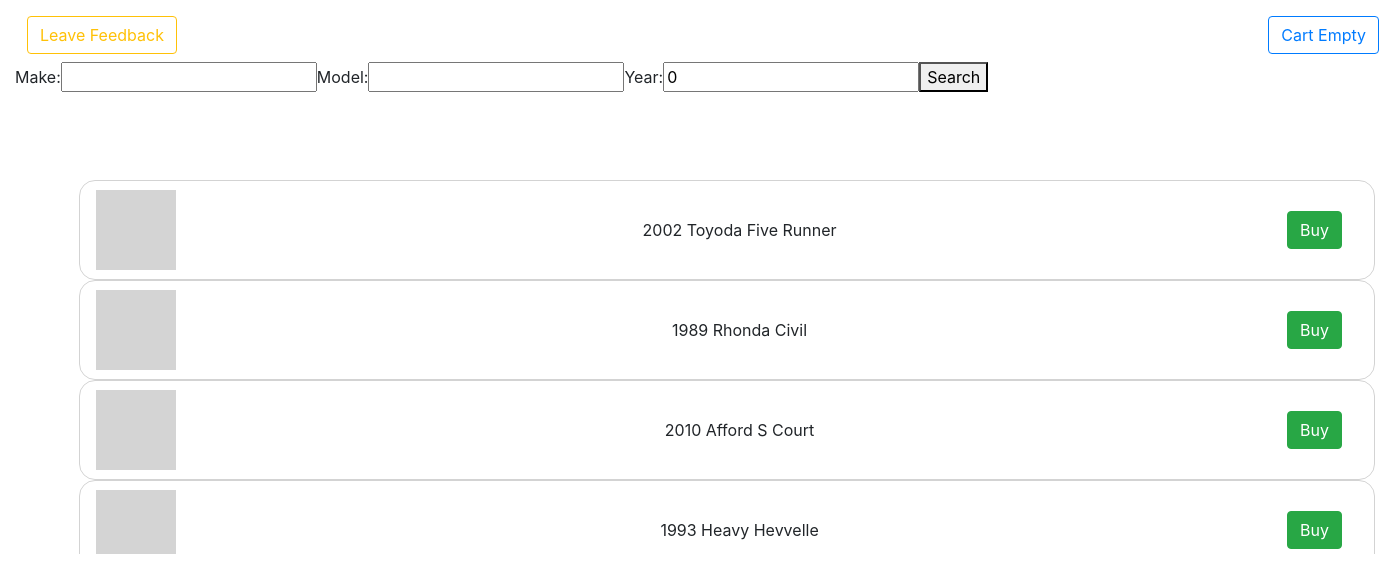
App Content › should add an item to the cart when buying item from the list
This screenshot has width=1396, height=571.
What coordinates should you click on to do the following:
click the button titled "Buy" in the row of "Five Runner"
I would click on:
 (1315, 230)
Its box is [1287, 211, 1342, 249].
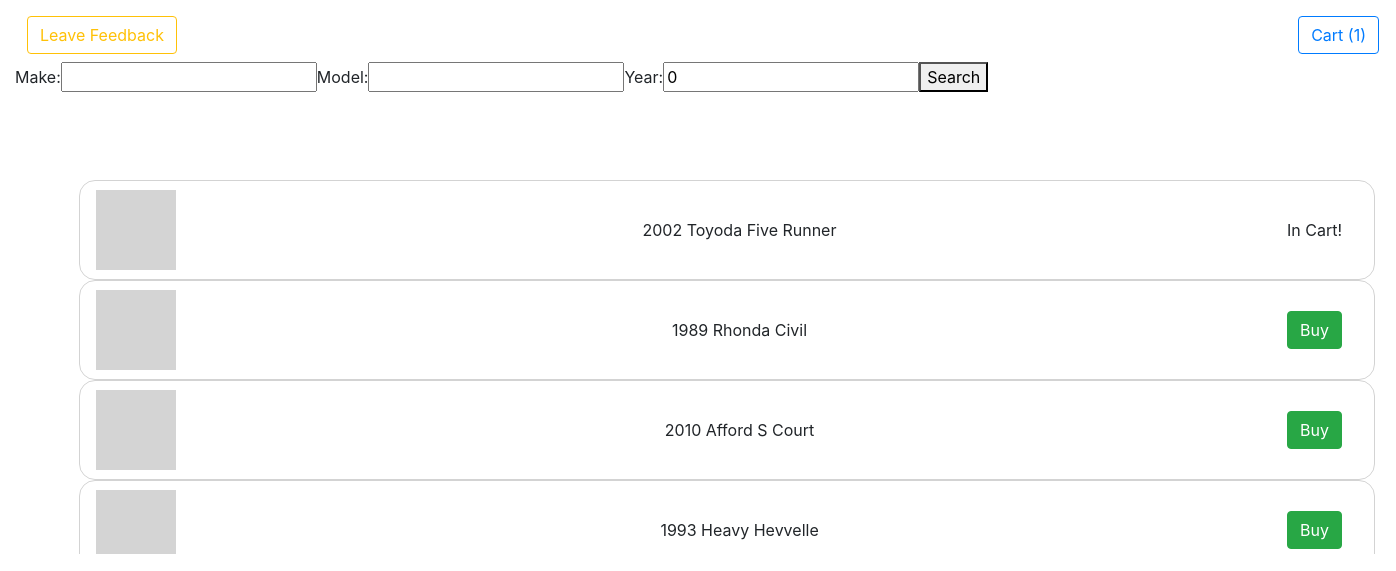
Check: the button "Cart (1)" is shown, box [1298, 16, 1379, 54]
